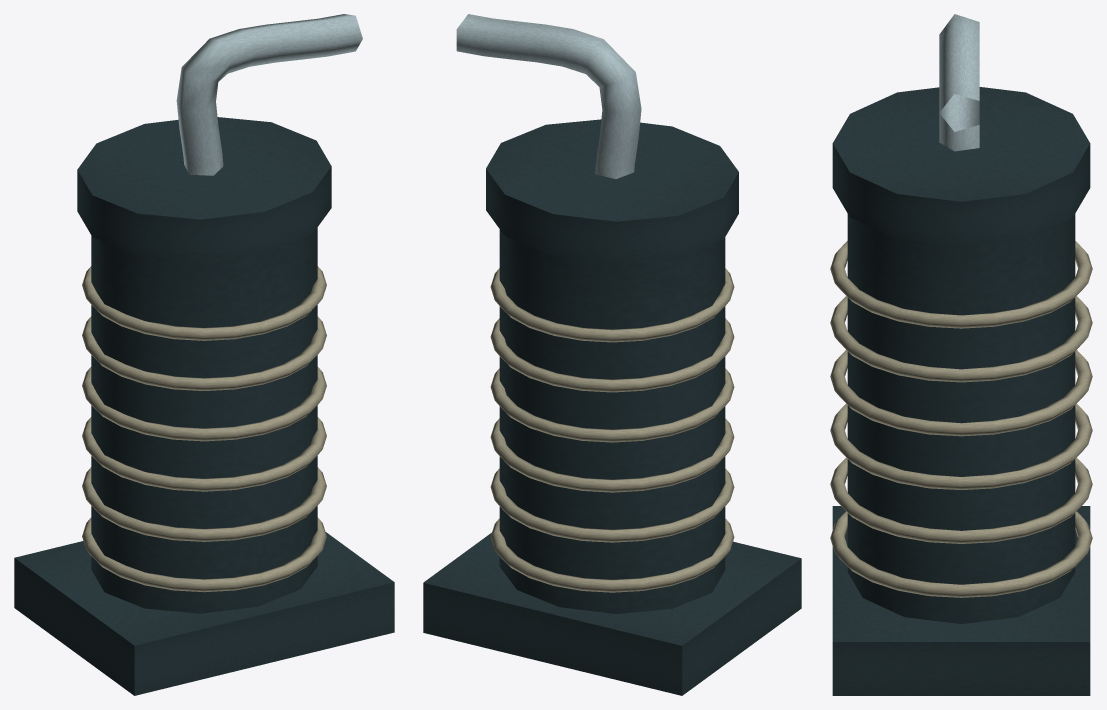
The model's file is filter_1.glb.
The picture shows the model from 3 angles, left to right: view 1: azimuth 30°, elevation 25°; view 2: azimuth 150°, elevation 25°; view 3: azimuth 270°, elevation 25°; orthographic projection. The views are drawn at different scales.
Parts seen in each view (by area): view 1: static_ornament; view 2: static_ornament; view 3: static_ornament.
Part boxes in pixels (<box>): static_ornament: <box>14,14,394,695</box>; static_ornament: <box>423,14,801,695</box>; static_ornament: <box>830,14,1092,695</box>.
Size of the model in its own units: 0.695 by 1.39 by 0.53.
1 material, 1 textured.
